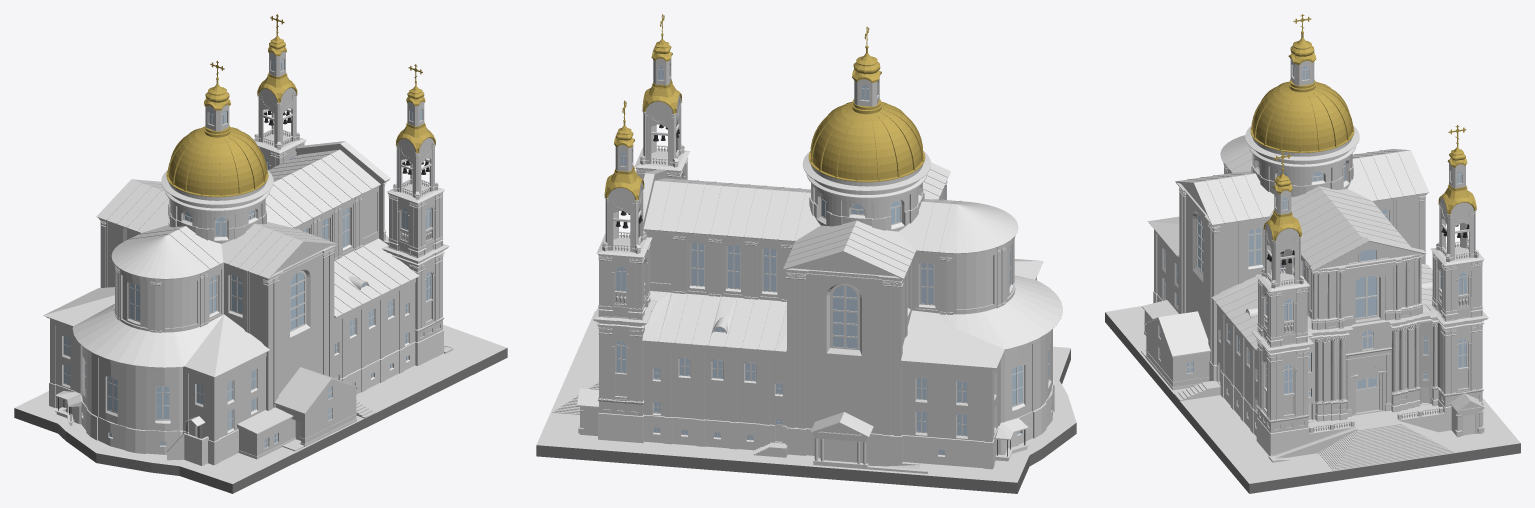
File: Assumption_Cathedral_3D_Print.fbx
The picture shows the model from 3 angles, left to right: view 1: azimuth 30°, elevation 25°; view 2: azimuth 150°, elevation 25°; view 3: azimuth 270°, elevation 25°; orthographic projection. The views are drawn at different scales.
Visible parts, largest first — view 1: Cathedral; view 2: Cathedral; view 3: Cathedral.
Boxes of the visible parts, x1,y1,x2,y2 form: Cathedral: (14,14,507,493); Cathedral: (536,14,1076,493); Cathedral: (1105,14,1520,493).
Size of the model in its own units: 47.18 by 35.75 by 38.66.
